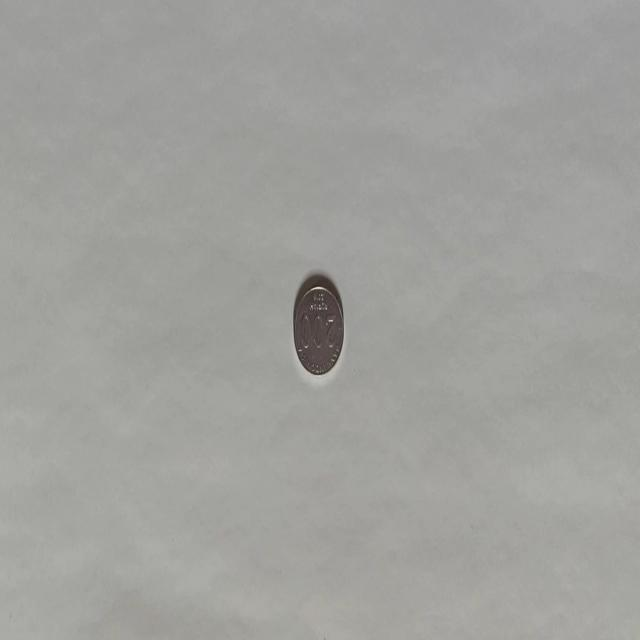dua ratus rupiah: (292, 275, 344, 377)
